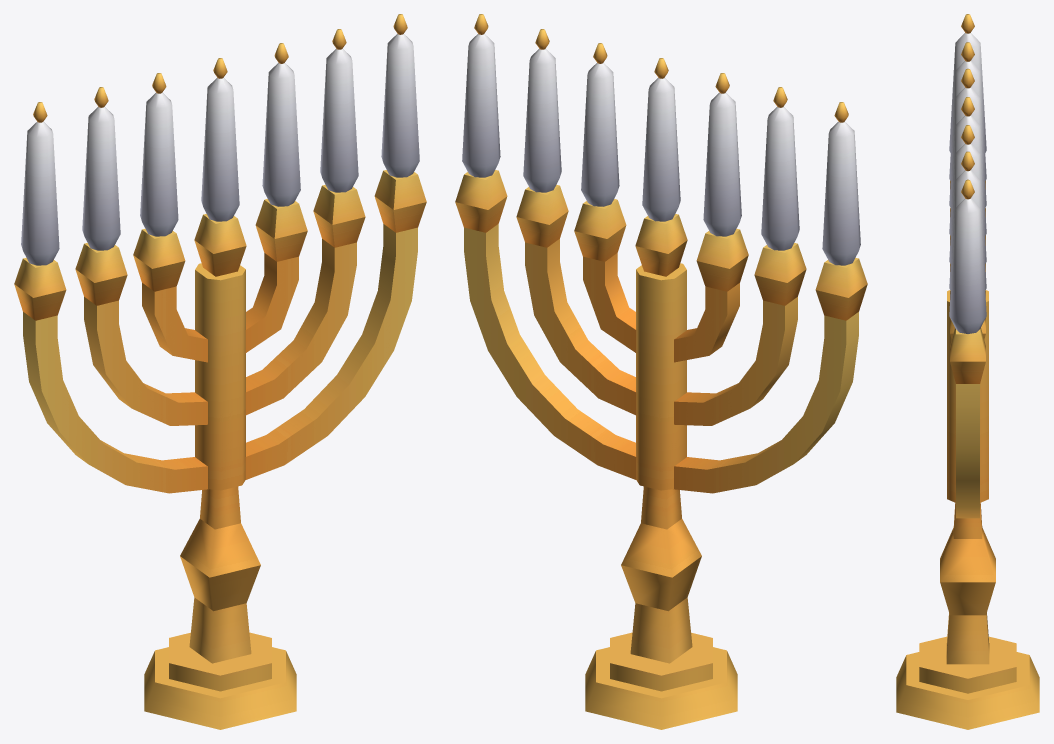
Rendered from hanukkah-menorah-candles.glb.
3 views of the same model, side by side, from view 1: azimuth 30°, elevation 25°; view 2: azimuth 150°, elevation 25°; view 3: azimuth 270°, elevation 25° (orthographic). The views are drawn at different scales.
Parts seen in each view (by area): view 1: hanukkah-menorah-candles; view 2: hanukkah-menorah-candles; view 3: hanukkah-menorah-candles.
Boxes of the visible parts, x1=… form: hanukkah-menorah-candles: x1=14, y1=14, x2=426, y2=729; hanukkah-menorah-candles: x1=455, y1=14, x2=867, y2=729; hanukkah-menorah-candles: x1=896, y1=14, x2=1039, y2=729.
Bounding box in the file's own units: 0.566 × 0.8684 × 0.189.
Materials: 1 (1 with a texture image).
